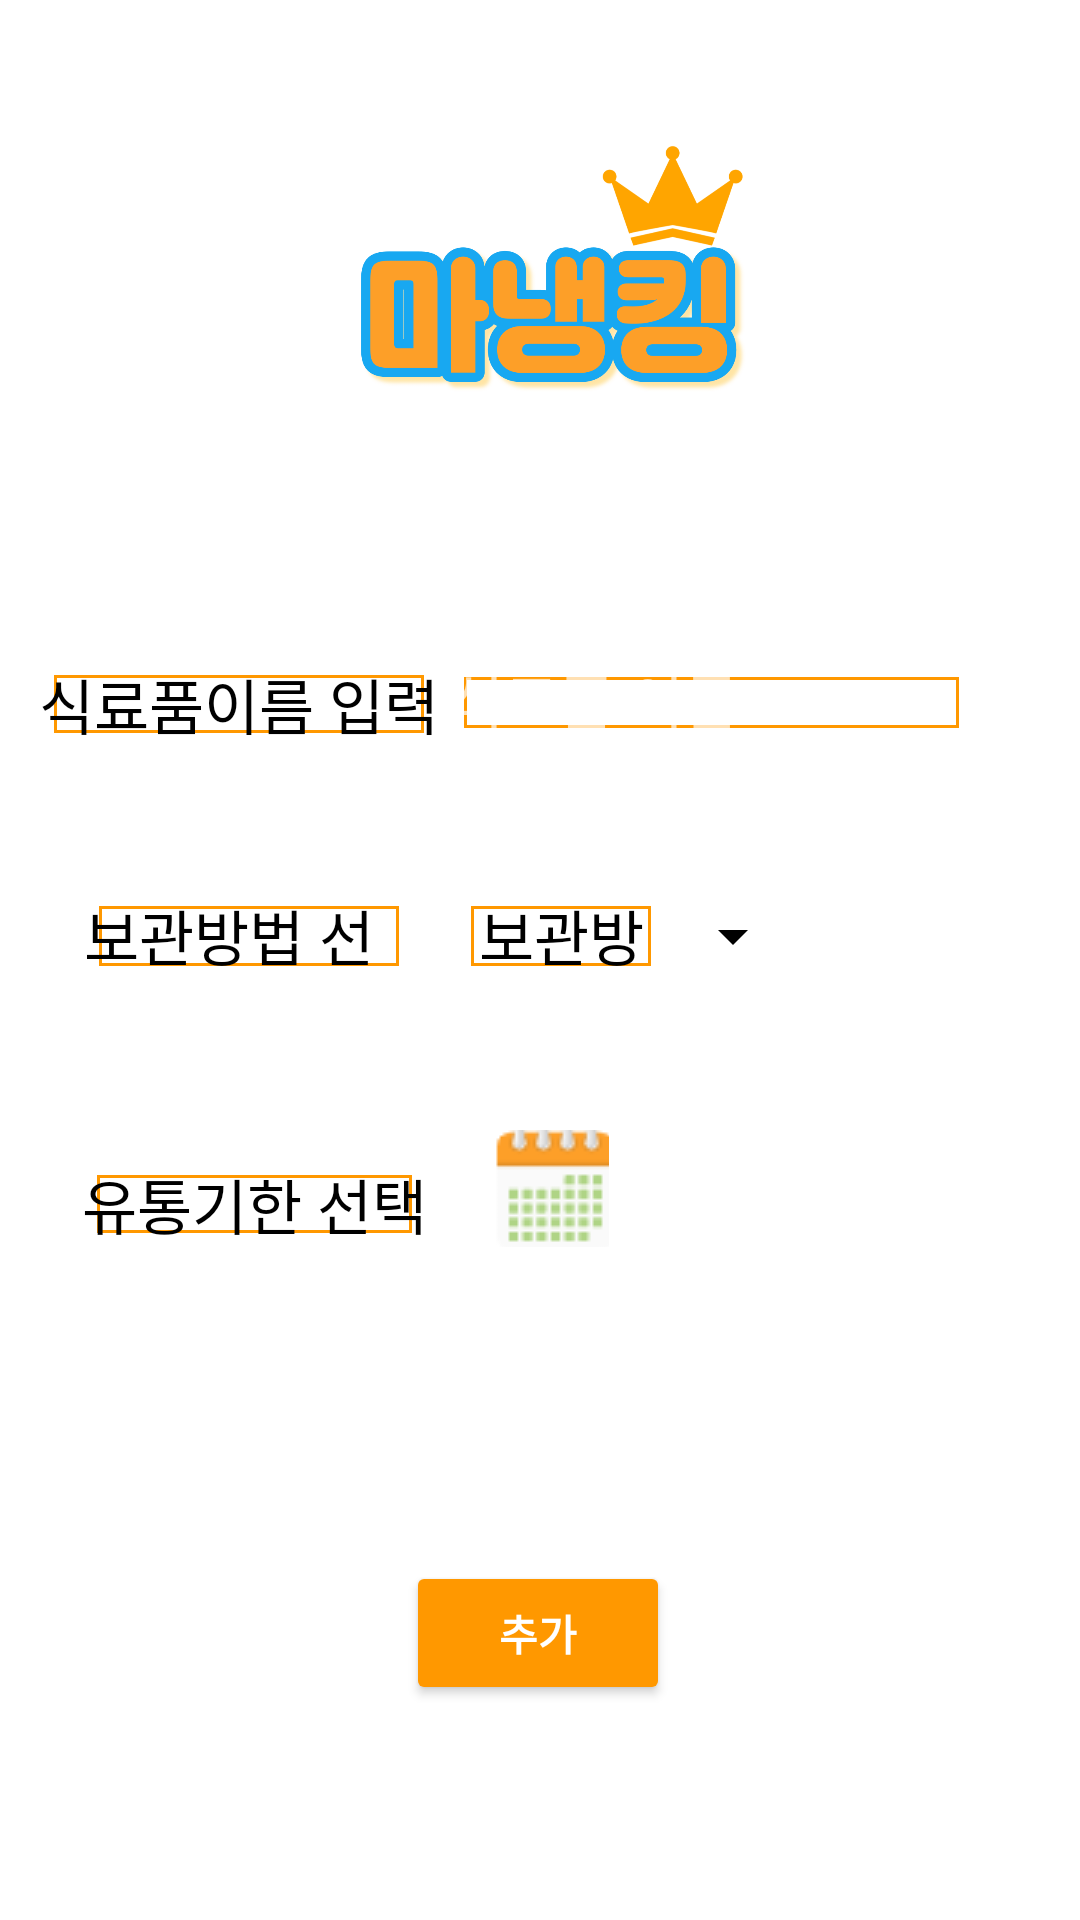

Where to tap for icons on this 1080x1920 app screen, as point (x, y):
calender: point (552, 1186)
